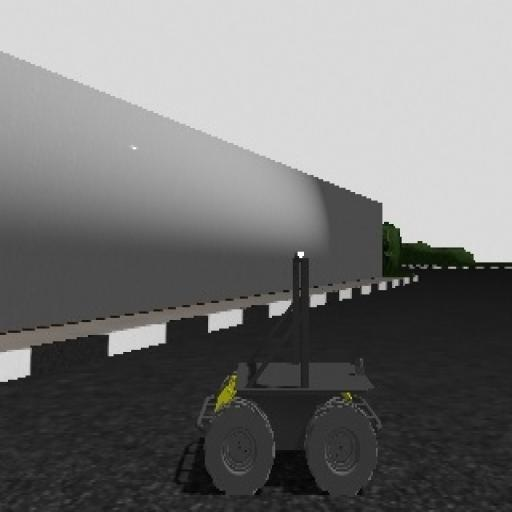huskya200: (163, 236, 405, 512)
